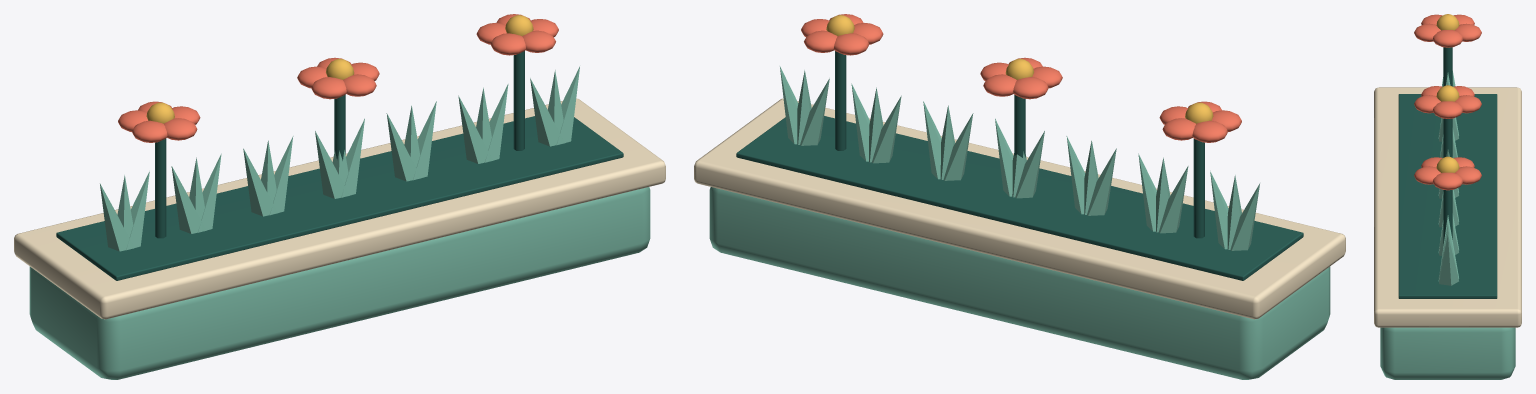
Rendered from athlete_planter.glb.
The picture shows the model from 3 angles, left to right: view 1: azimuth 30°, elevation 25°; view 2: azimuth 150°, elevation 25°; view 3: azimuth 270°, elevation 25°; orthographic projection. The views are drawn at different scales.
Visible parts, largest first — view 1: athlete_planter__mint, athlete_planter__cream, athlete_planter__ink, athlete_planter__coral, athlete_planter__gold; view 2: athlete_planter__mint, athlete_planter__cream, athlete_planter__ink, athlete_planter__coral, athlete_planter__gold; view 3: athlete_planter__ink, athlete_planter__cream, athlete_planter__mint, athlete_planter__coral, athlete_planter__gold.
Part boxes in pixels (x1=…): athlete_planter__mint: x1=29, y1=66, x2=650, y2=379; athlete_planter__cream: x1=14, y1=98, x2=665, y2=319; athlete_planter__ink: x1=56, y1=51, x2=623, y2=280; athlete_planter__coral: x1=118, y1=14, x2=558, y2=142; athlete_planter__gold: x1=146, y1=15, x2=533, y2=123; athlete_planter__mint: x1=709, y1=66, x2=1330, y2=379; athlete_planter__cream: x1=694, y1=98, x2=1345, y2=319; athlete_planter__ink: x1=736, y1=51, x2=1303, y2=280; athlete_planter__coral: x1=801, y1=14, x2=1241, y2=142; athlete_planter__gold: x1=826, y1=15, x2=1213, y2=123; athlete_planter__ink: x1=1398, y1=47, x2=1497, y2=298; athlete_planter__cream: x1=1374, y1=87, x2=1521, y2=327; athlete_planter__mint: x1=1380, y1=71, x2=1515, y2=379; athlete_planter__coral: x1=1414, y1=14, x2=1481, y2=190; athlete_planter__gold: x1=1436, y1=14, x2=1459, y2=172.
Bounding box in the file's own units: 2.05 × 0.805 × 0.57.
